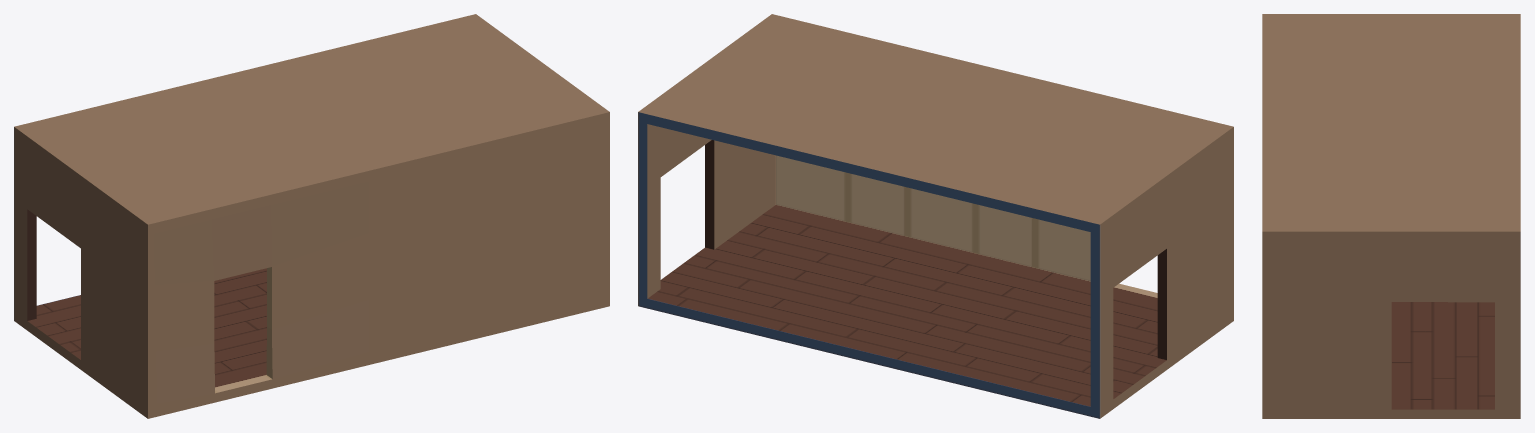
File: Hallway2UP_1Doors.fbx
3 views of the same model, side by side, from view 1: azimuth 30°, elevation 25°; view 2: azimuth 150°, elevation 25°; view 3: azimuth 270°, elevation 25° (orthographic). The views are drawn at different scales.
Visible parts, largest first — view 1: 2up_1door; view 2: 2up_1door; view 3: 2up_1door.
Part boxes in pixels (x1,y1,x2,y2): 2up_1door: (14, 14, 609, 418); 2up_1door: (638, 14, 1233, 418); 2up_1door: (1262, 14, 1520, 418).
Size of the model in its own units: 996 by 400 by 500.
